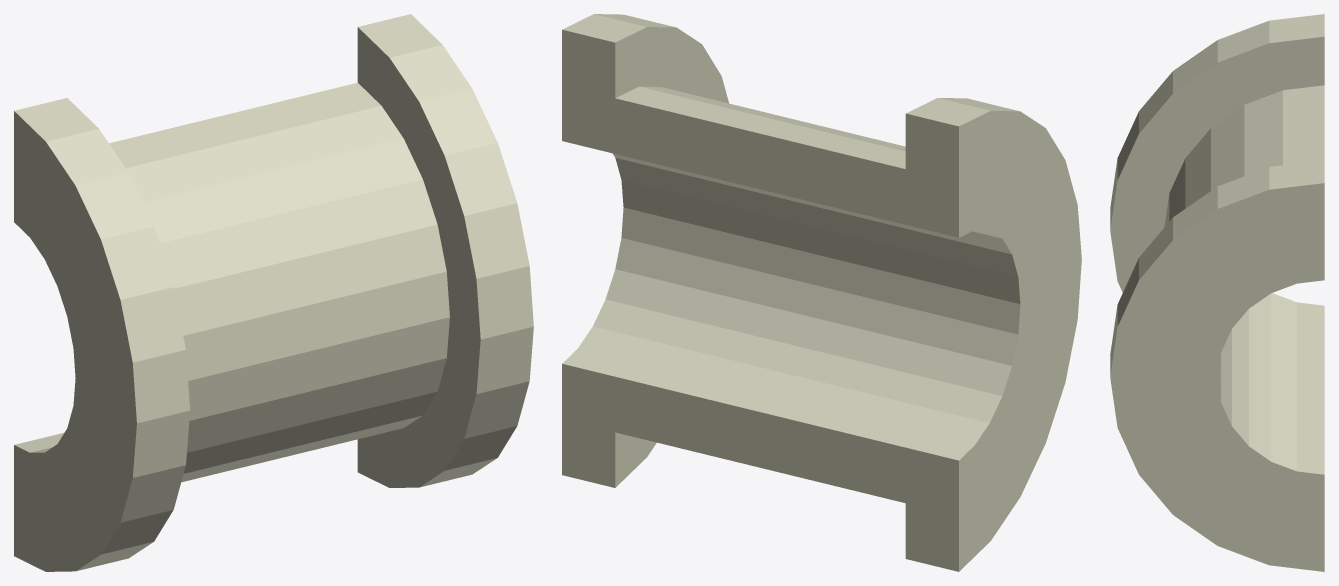
File: section_006.obj
The picture shows the model from 3 angles, left to right: view 1: azimuth 30°, elevation 25°; view 2: azimuth 150°, elevation 25°; view 3: azimuth 270°, elevation 25°; orthographic projection. The views are drawn at different scales.
Bounding box in the file's own units: 7.46 × 8 × 4.
